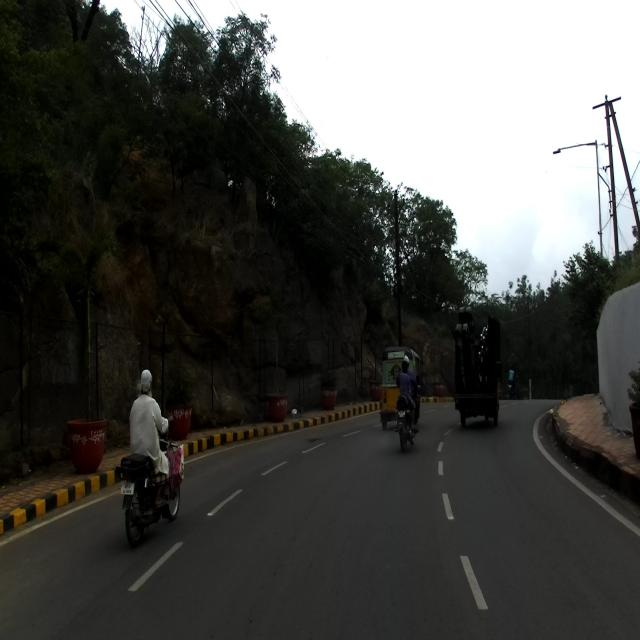motorcycle_Honda: (393, 383, 420, 451)
motorcycle_TVS: (120, 416, 183, 549)
